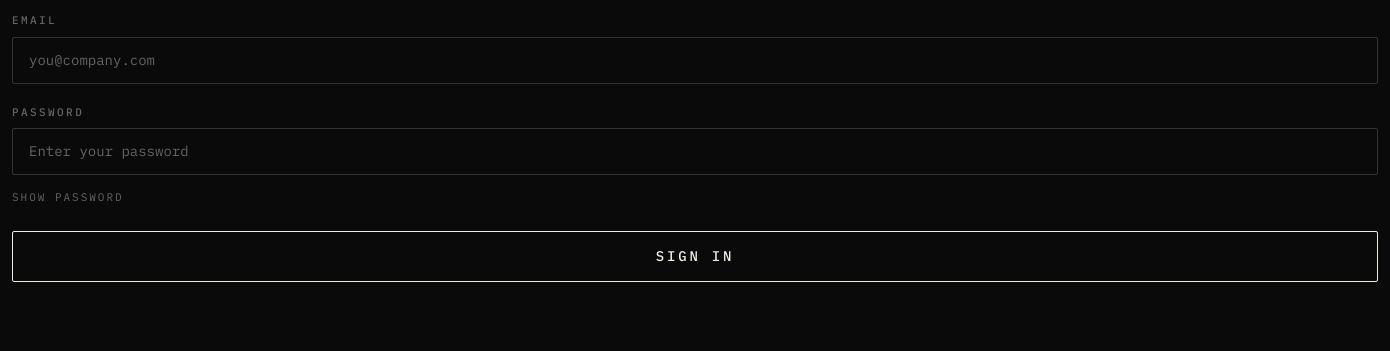
Test: ClientLoginForm › shows validation errors when submitted empty
Click the button "Sign In" at (695, 256), box [12,231,1378,282]
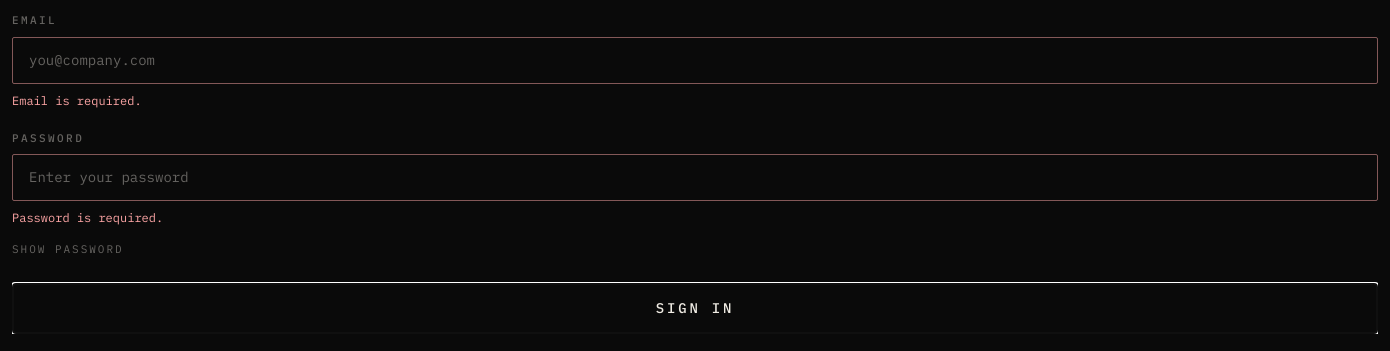
Expected: the text "Email is required." is shown, [12,92,142,108]
Expected: the text "Password is required." is shown, [12,210,163,225]
